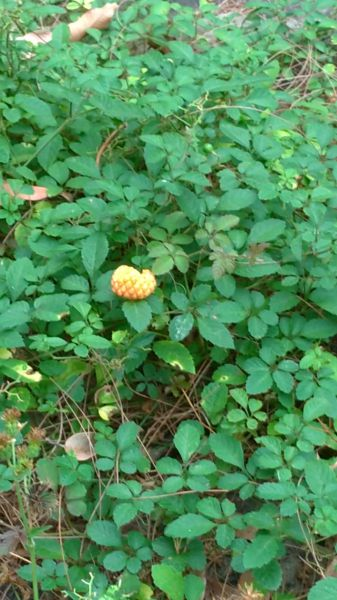eggs: (108, 259, 162, 302)
